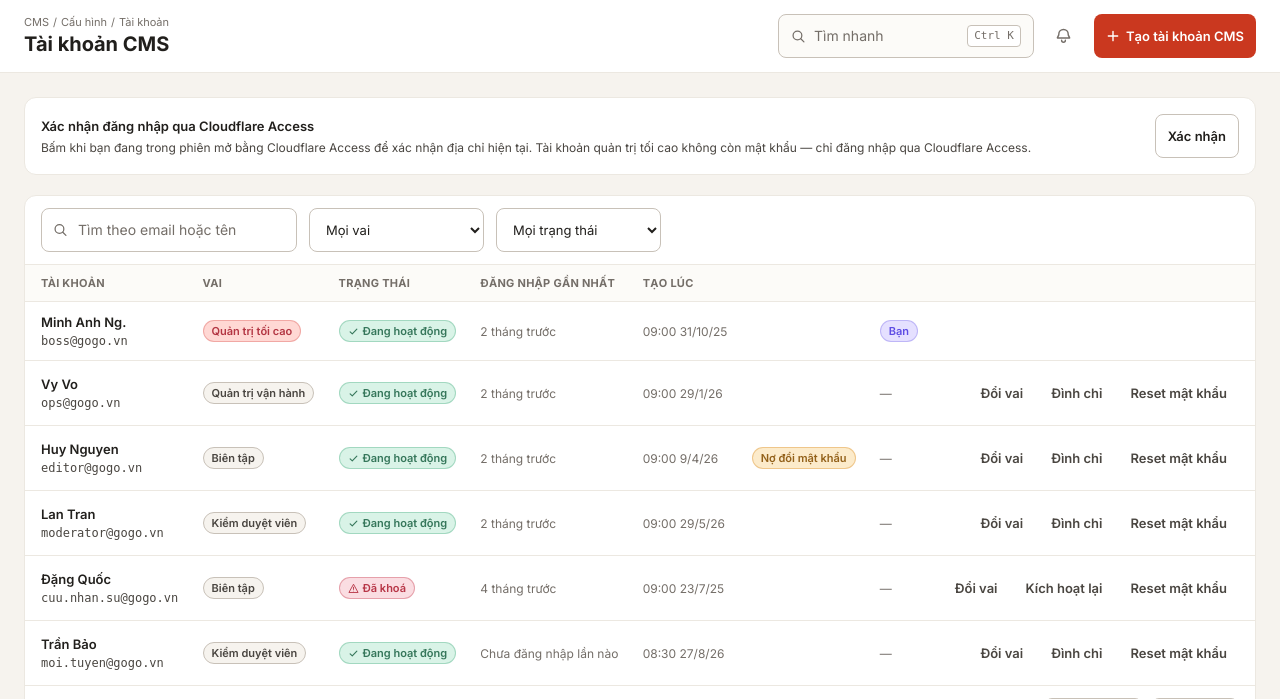
AdminListScreen (CMS-021) › demands a reason before any mutation is sent
Click the button "Đổi vai" in the row of "Vy Vo".
click(1002, 393)  # box left=968, top=371, right=1035, bottom=415
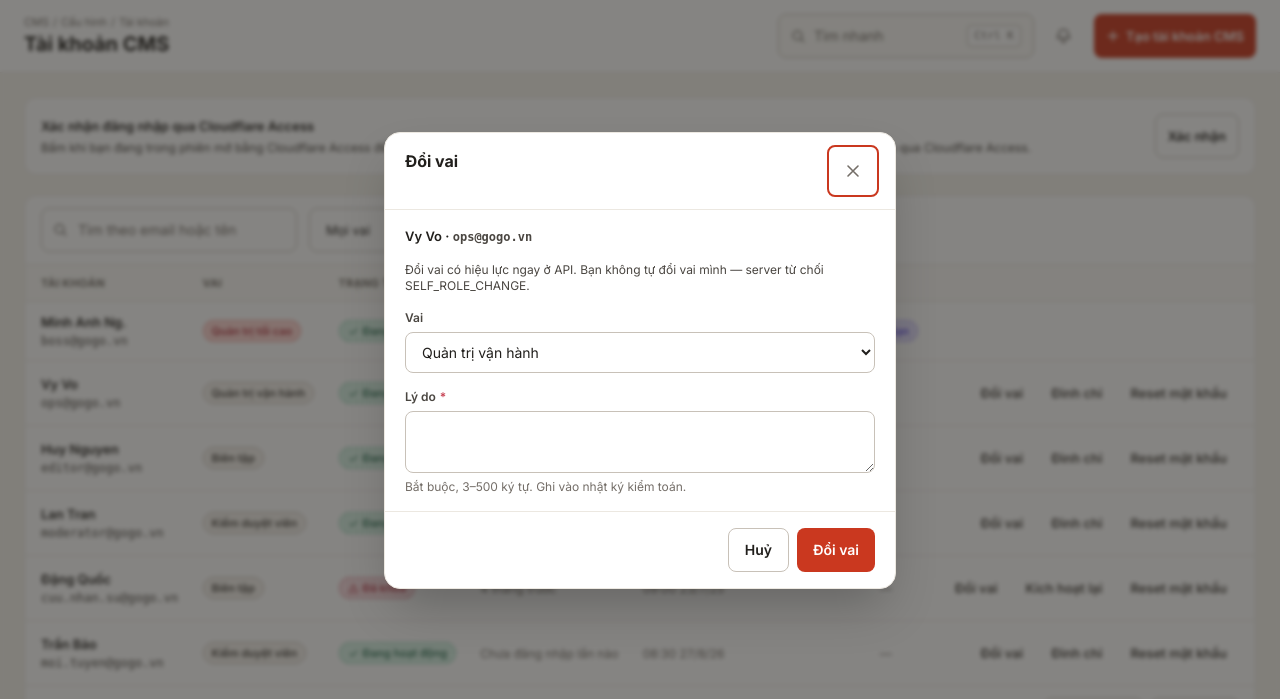
Click the button "Đổi vai".
click(836, 550)  # box left=797, top=528, right=875, bottom=572
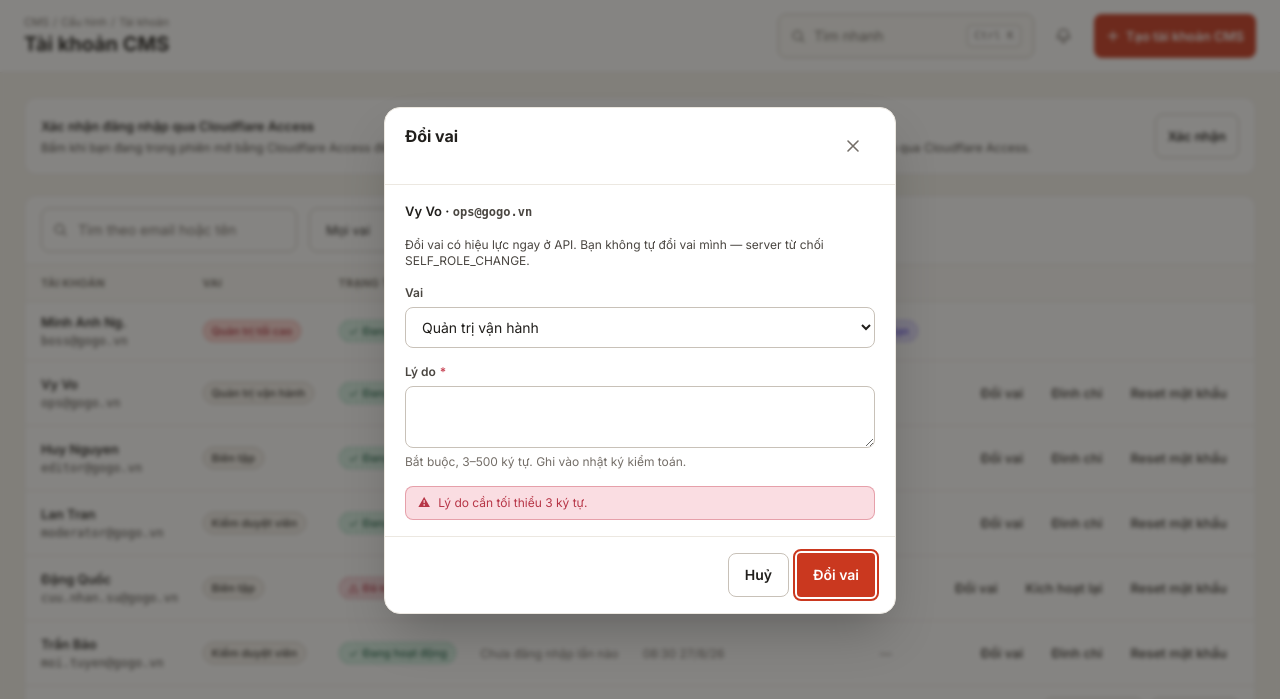
expect the text "Lý do cần tối thiểu 3 ký tự." is shown: met, box left=438, top=494, right=588, bottom=510
